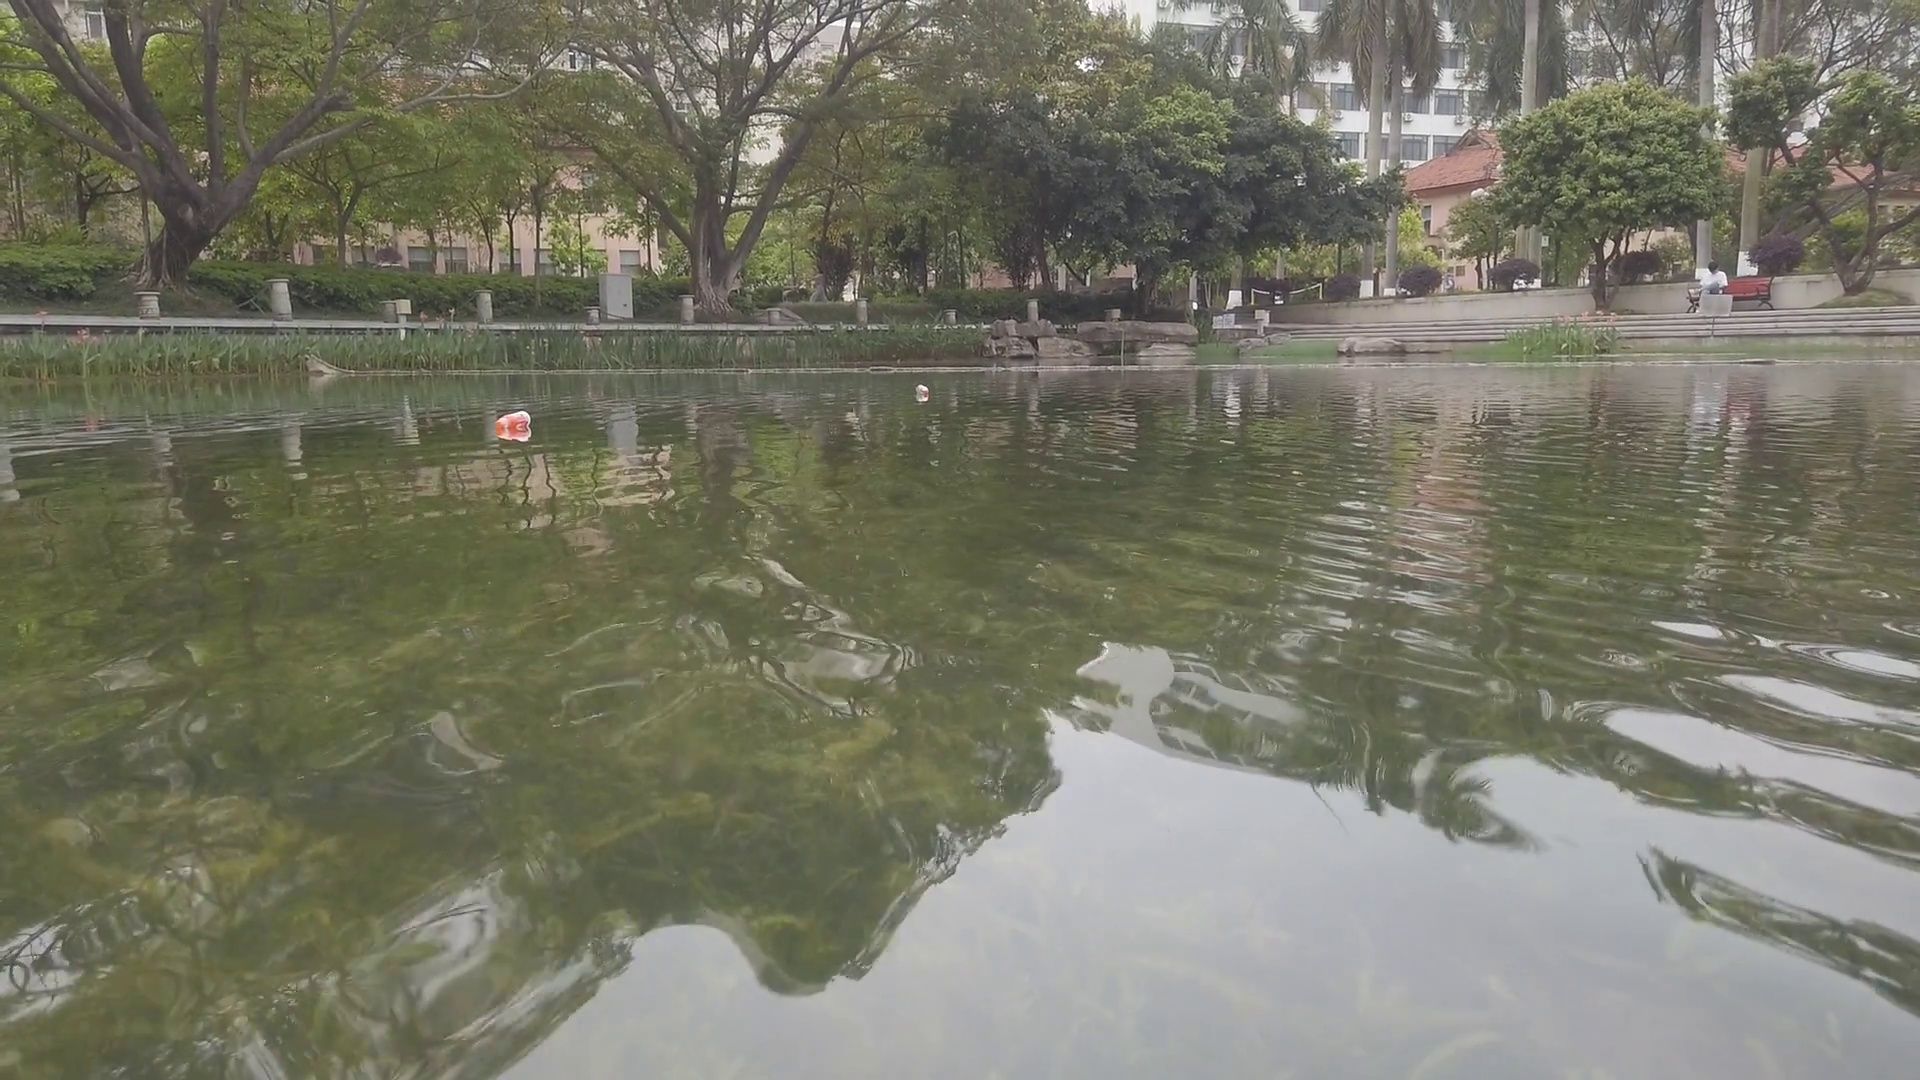bottle: (495, 409, 533, 435), (915, 382, 928, 398)
